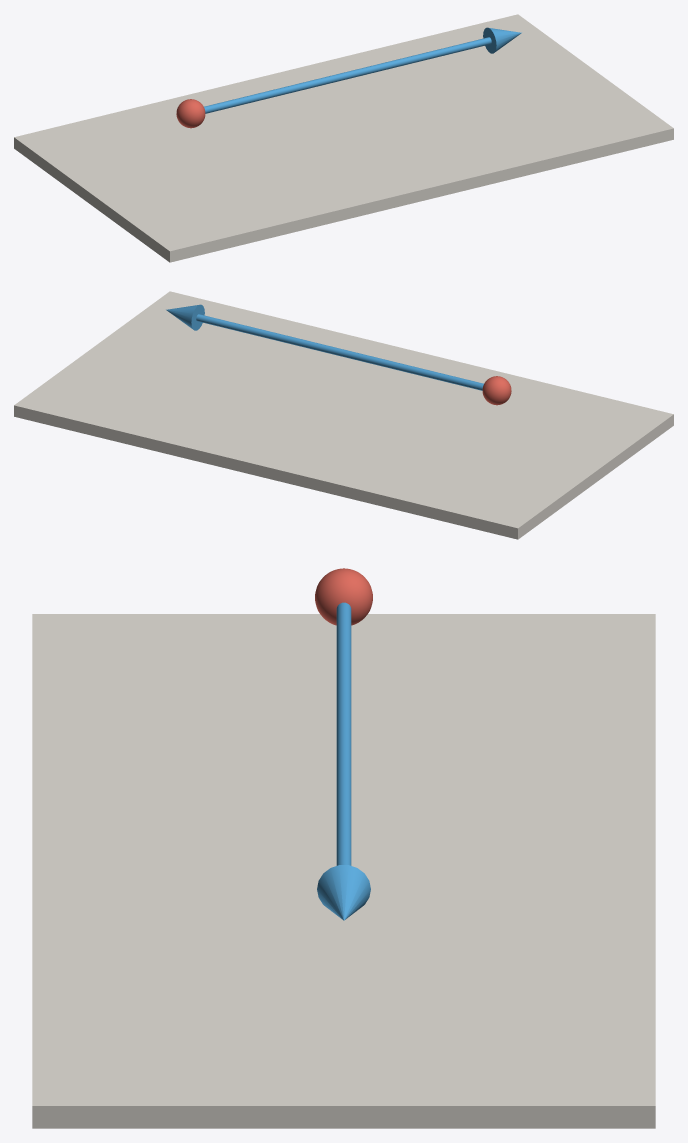
File: math-geometry-ray.glb
3 renders of one model, top to bottom at view 1: azimuth 30°, elevation 25°; view 2: azimuth 150°, elevation 25°; view 3: azimuth 270°, elevation 25°, orthographic. The views are drawn at different scales.
Parts seen in each view (by area): view 1: manipulative-base, ray-direction-shaft, endpoint, ray-direction-head; view 2: manipulative-base, ray-direction-shaft, endpoint, ray-direction-head; view 3: manipulative-base, ray-direction-shaft, endpoint, ray-direction-head.
Part boxes in pixels (x1,y1,x2,y2): manipulative-base: (14, 14, 673, 262); ray-direction-shaft: (204, 37, 491, 113); endpoint: (176, 99, 205, 128); ray-direction-head: (483, 27, 521, 53); manipulative-base: (14, 291, 673, 539); ray-direction-shaft: (196, 314, 483, 390); endpoint: (482, 376, 511, 405); ray-direction-head: (166, 304, 204, 330); manipulative-base: (32, 614, 655, 1128); ray-direction-shaft: (336, 602, 351, 865); endpoint: (315, 568, 372, 625); ray-direction-head: (317, 865, 370, 920).
Size of what is drawn, in the model's own units: 2.8 by 0.43 by 1.5.
